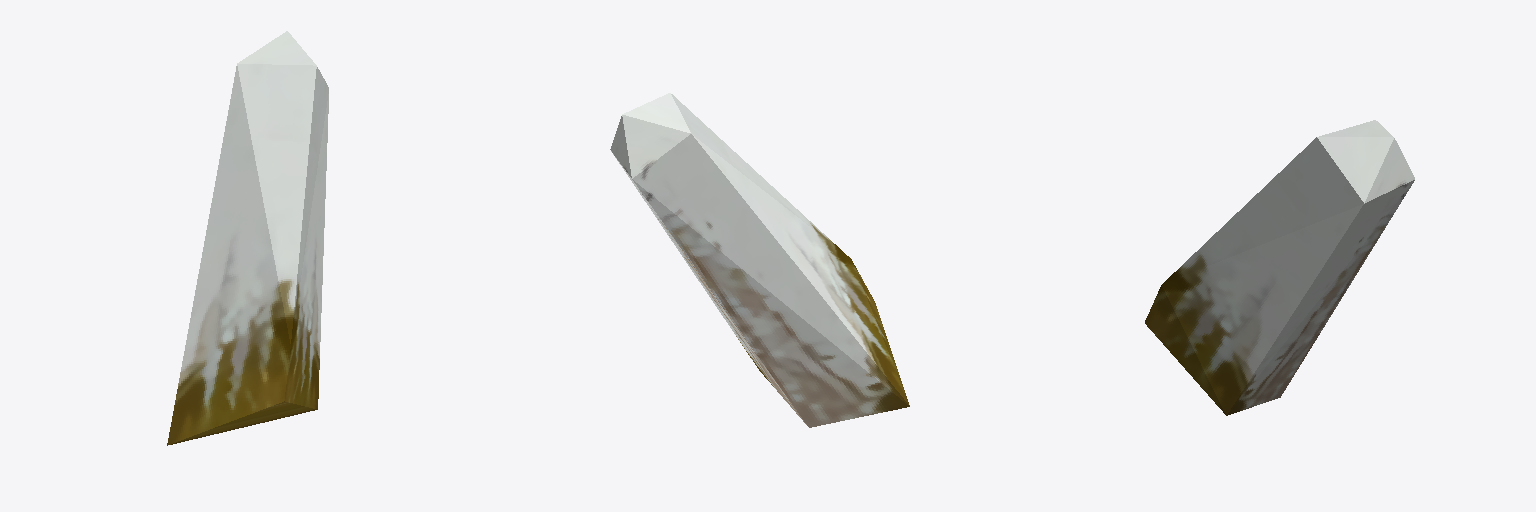
3 renders of one model, left to right at view 1: azimuth 30°, elevation 25°; view 2: azimuth 150°, elevation 25°; view 3: azimuth 270°, elevation 25°, orthographic.
Visible parts, largest first — view 1: Cola_Mesh_0322.rip.005; view 2: Cola_Mesh_0322.rip.005; view 3: Cola_Mesh_0322.rip.005.
Part boxes in pixels (bbox=[...]): Cola_Mesh_0322.rip.005: bbox=[167, 31, 328, 445]; Cola_Mesh_0322.rip.005: bbox=[610, 93, 909, 427]; Cola_Mesh_0322.rip.005: bbox=[1145, 120, 1414, 415].
Size of the model in its own units: 0.3209 by 0.4293 by 0.3261.
1 materials, 1 textured.